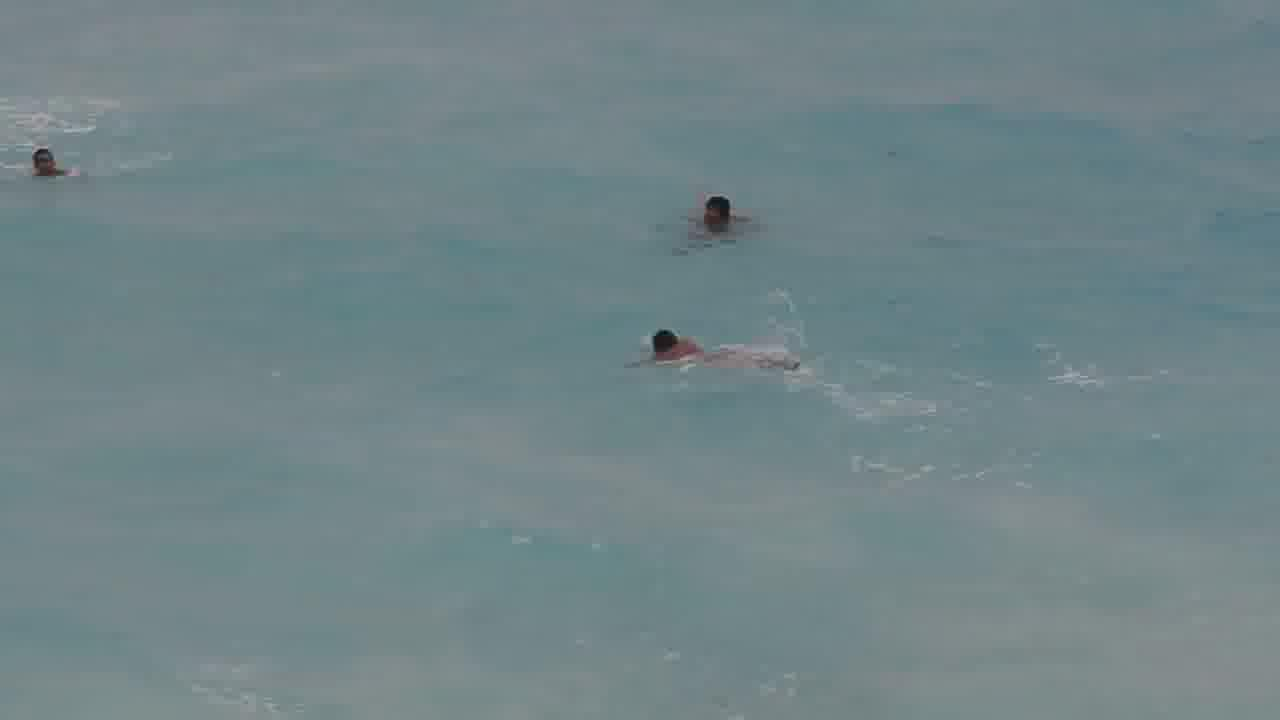human: (632, 322, 797, 375), (11, 135, 87, 190), (670, 189, 754, 235)
